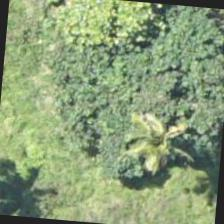Kelapa_Sawit: (108, 82, 206, 180), (0, 166, 92, 223)
